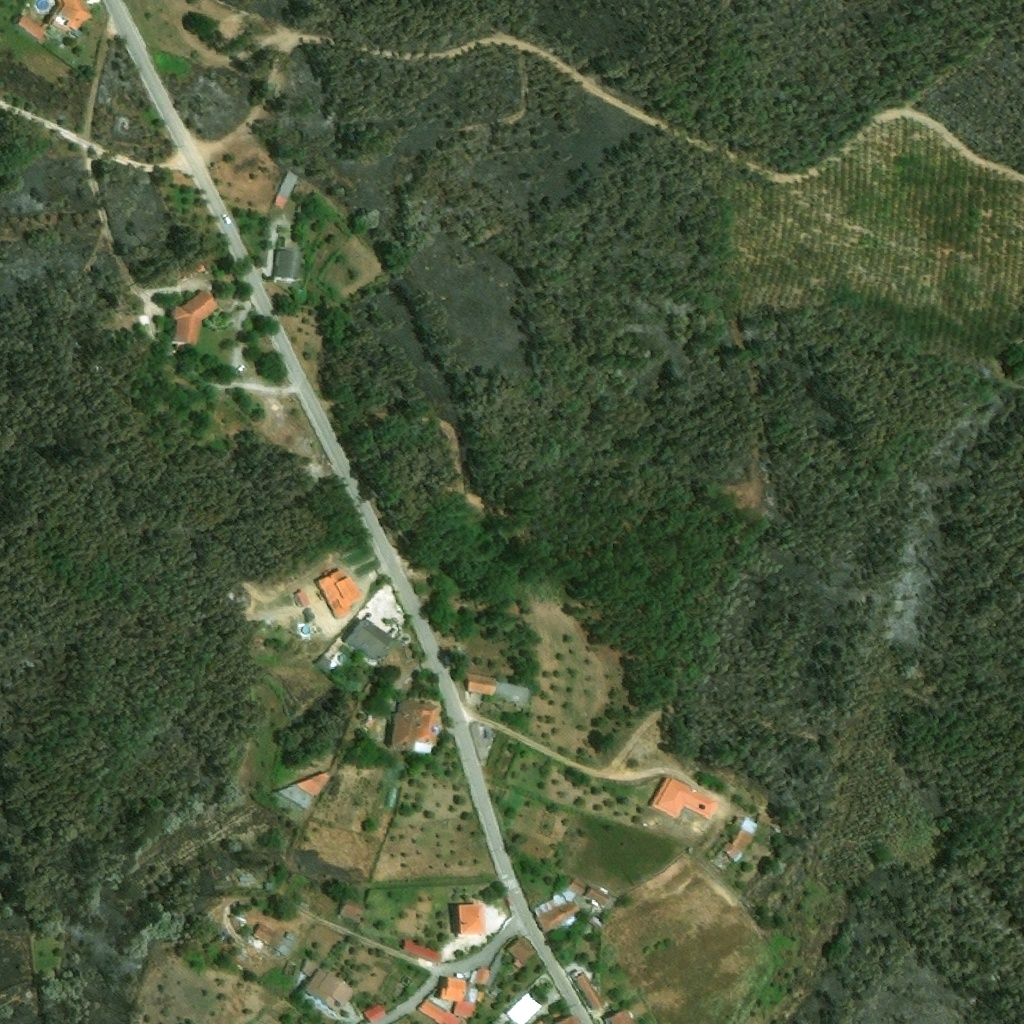0 no-damage: (313, 634, 381, 695), (390, 693, 443, 755), (297, 959, 354, 1016), (648, 776, 718, 820), (170, 289, 219, 348), (342, 611, 395, 664), (315, 569, 364, 619), (274, 772, 332, 810), (725, 817, 770, 864), (533, 894, 580, 935), (46, 0, 94, 36), (570, 971, 604, 1014), (252, 923, 293, 956), (451, 904, 489, 939), (416, 998, 467, 1023), (270, 249, 304, 284), (400, 939, 443, 962), (503, 939, 535, 966), (14, 15, 46, 40), (436, 977, 467, 1002), (467, 673, 496, 696), (585, 888, 611, 908), (602, 1009, 635, 1023), (362, 1004, 386, 1023), (454, 1002, 478, 1020), (468, 969, 492, 986), (566, 878, 586, 895), (293, 590, 309, 607), (757, 814, 775, 826), (272, 194, 286, 209)
